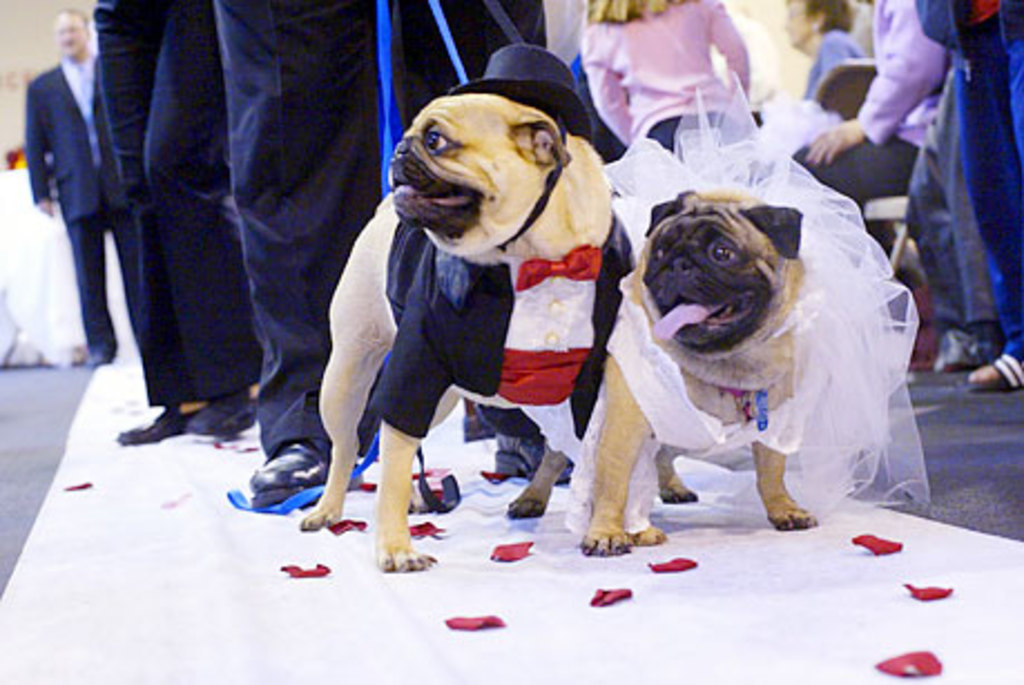Person: (25, 0, 1023, 505)
